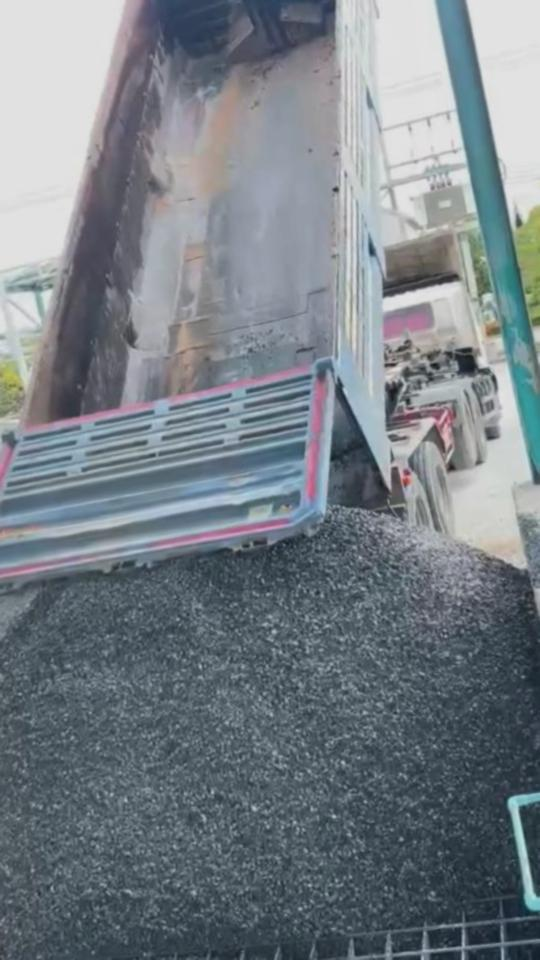gravel: (0, 510, 540, 957), (0, 589, 38, 682), (520, 514, 540, 587), (531, 802, 540, 886)
